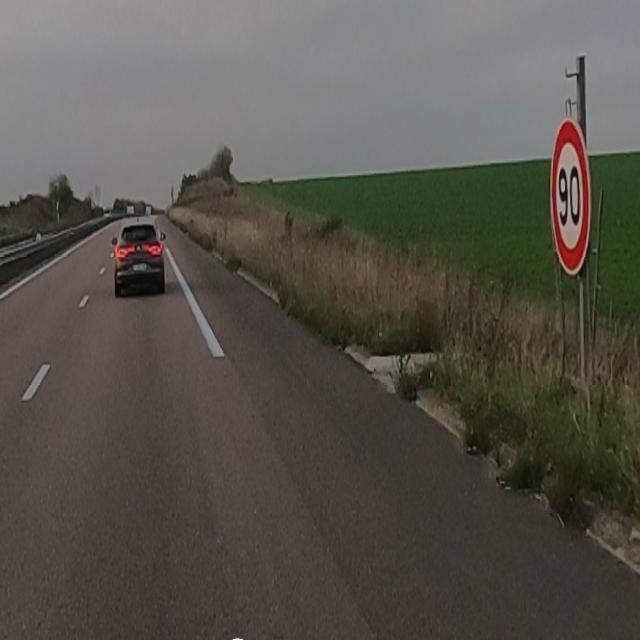speed_90: (552, 118, 590, 273)
